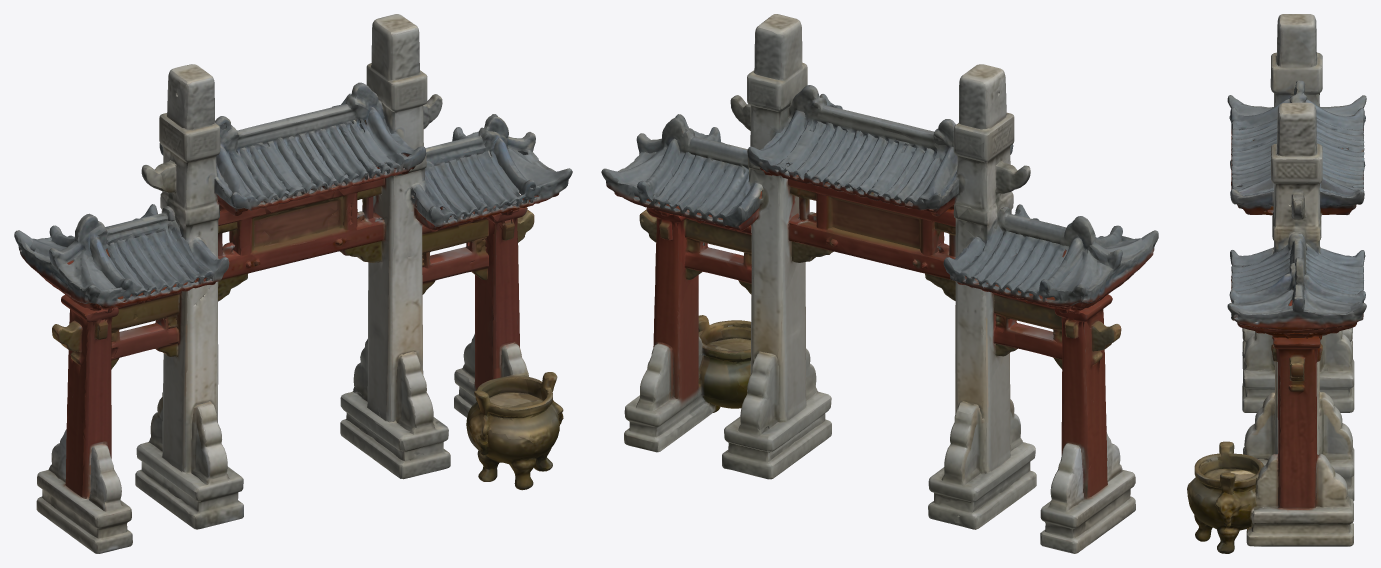
File: gate-stone.glb
3 renders of one model, left to right at view 1: azimuth 30°, elevation 25°; view 2: azimuth 150°, elevation 25°; view 3: azimuth 270°, elevation 25°, orthographic. The views are drawn at different scales.
Visible parts, largest first — view 1: geometry_0; view 2: geometry_0; view 3: geometry_0.
Part boxes in pixels (bbox=[...]): geometry_0: bbox=[14, 14, 572, 553]; geometry_0: bbox=[601, 14, 1158, 553]; geometry_0: bbox=[1187, 14, 1366, 553].
Bounding box in the file's own units: 1.02 × 0.9 × 0.3674.
Materials: 1 (1 with a texture image).
